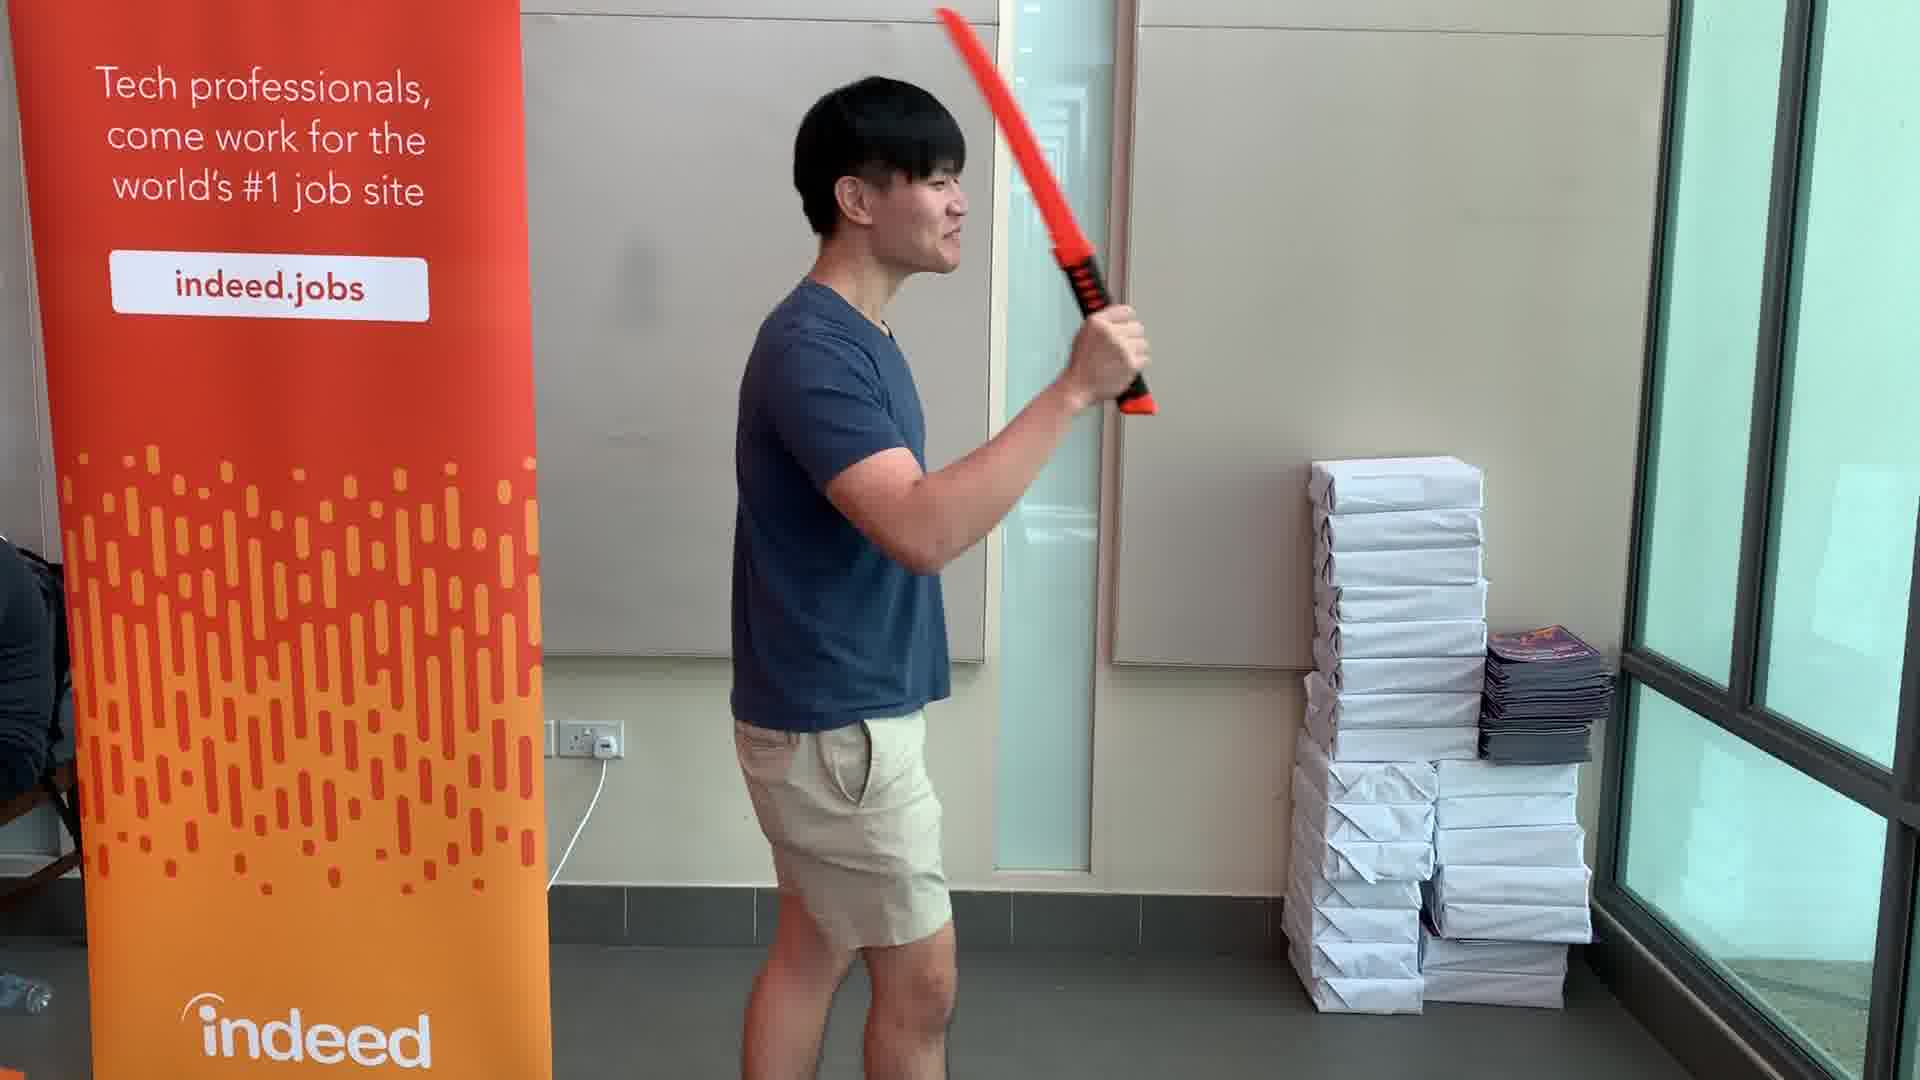knife: (931, 3, 1170, 425)
